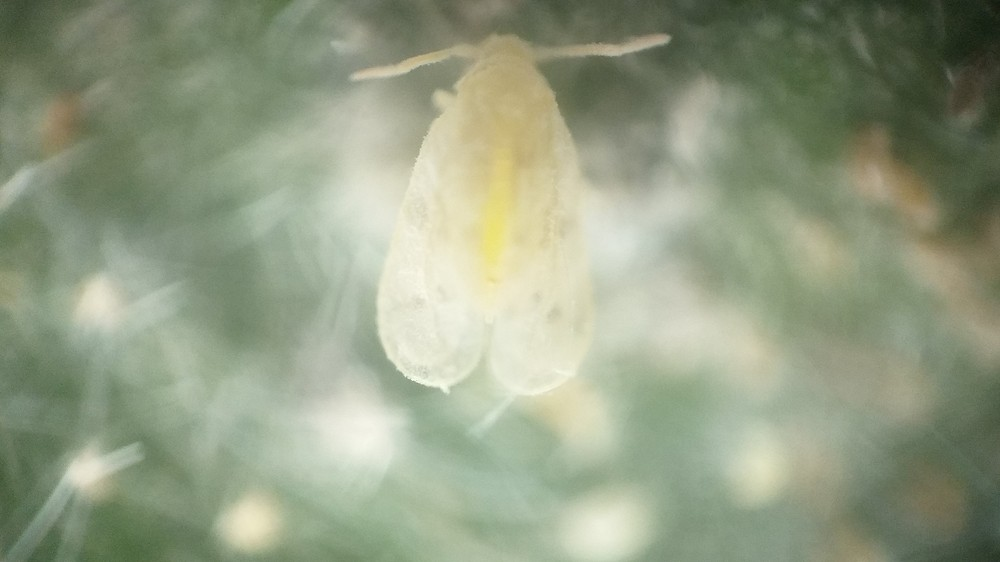Mosca Blanca: (331, 17, 699, 409)
